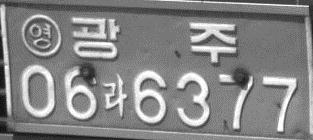0: (20, 63, 56, 119)
3: (175, 72, 210, 128)
6: (132, 69, 166, 126), (63, 66, 97, 121)
7: (261, 74, 297, 132), (217, 73, 252, 129)
광주_D: (71, 16, 237, 63)
라: (101, 72, 127, 119)
영: (20, 14, 62, 58)
